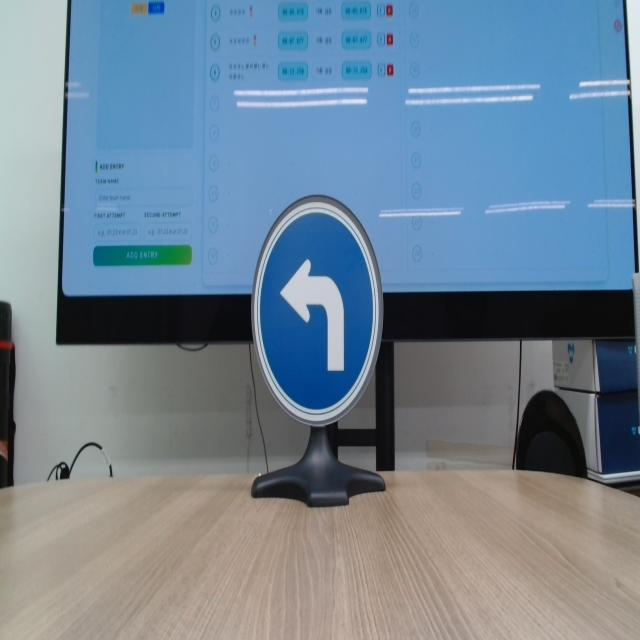left_direction: (242, 187, 388, 428)
